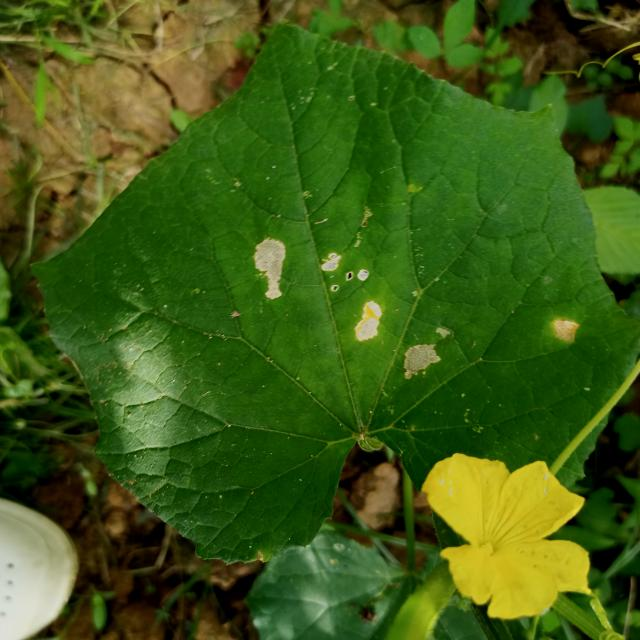disease_cucumber: (251, 233, 451, 380), (551, 316, 581, 344)
